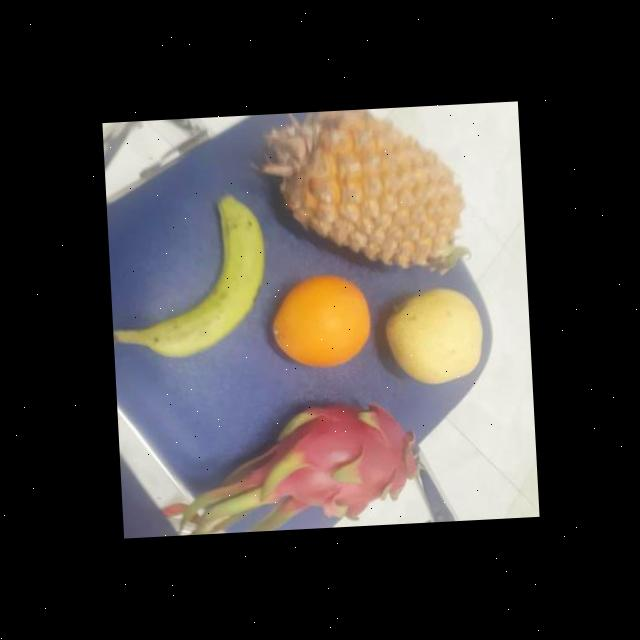banana: (129, 202, 269, 362)
orange: (267, 274, 373, 372)
pear: (384, 285, 488, 390)
pineapple: (278, 105, 462, 275)
pitaya: (260, 400, 418, 524)
